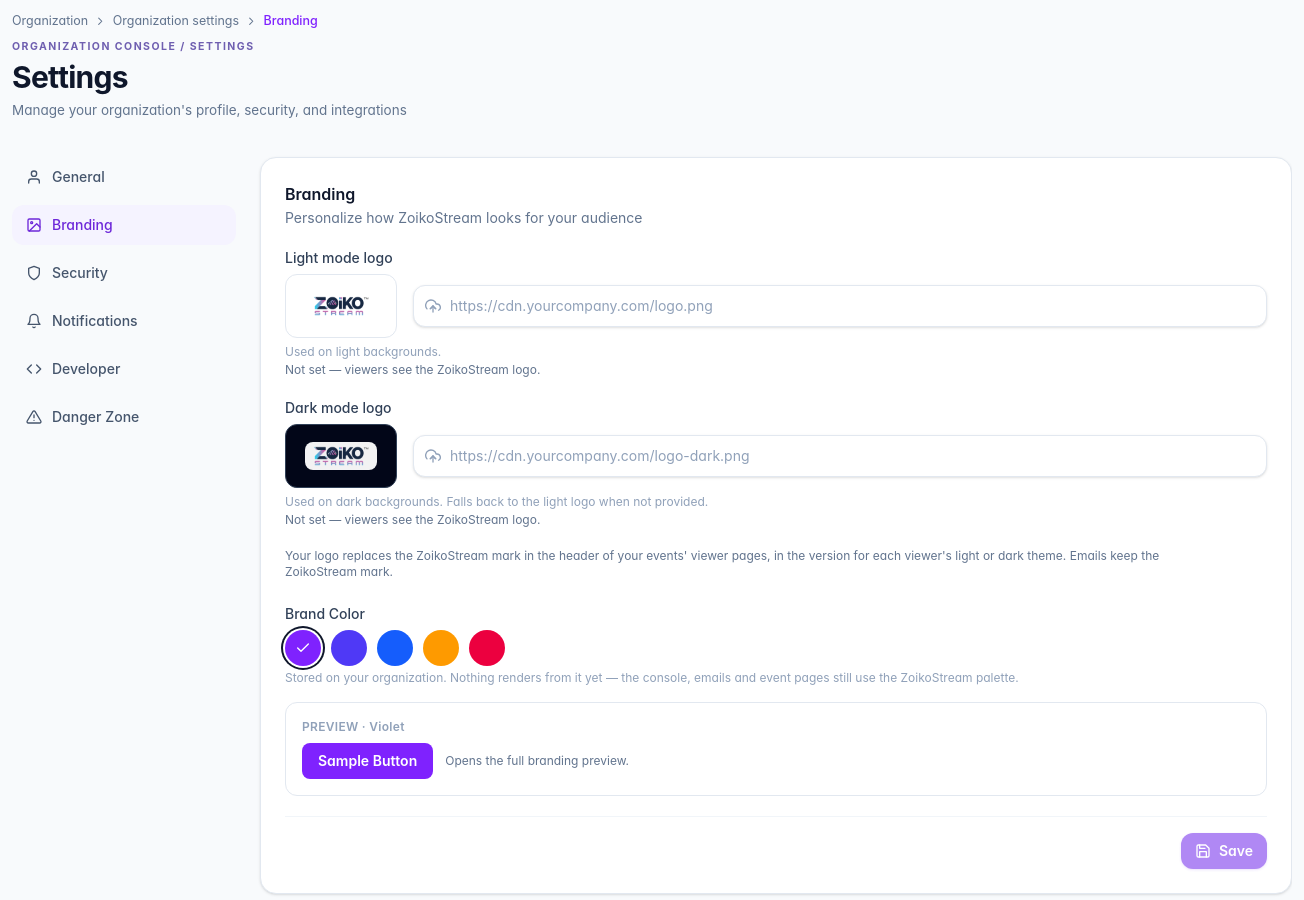
Test: each section saves only itself › a section edited and then restored is no longer dirty
The width and height of the screenshot is (1304, 900).
Step 1. Click the button named "indigo" → (349, 648), box [331, 630, 367, 666]
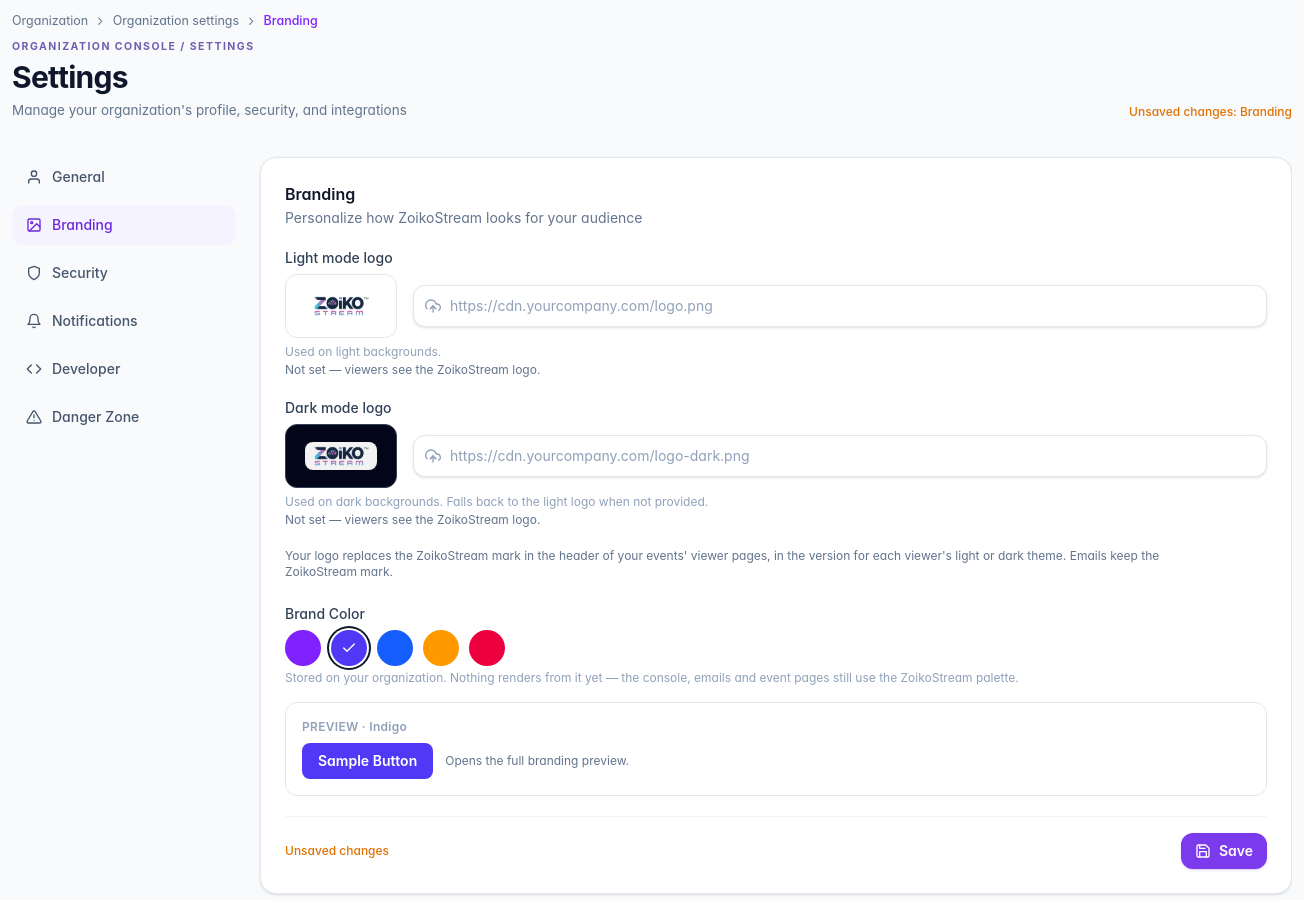
Expected: the button with aria-label "Save branding" is enabled, [1181, 833, 1267, 869]
Step 2. Click the button named "violet" → (303, 648), box [285, 630, 321, 666]
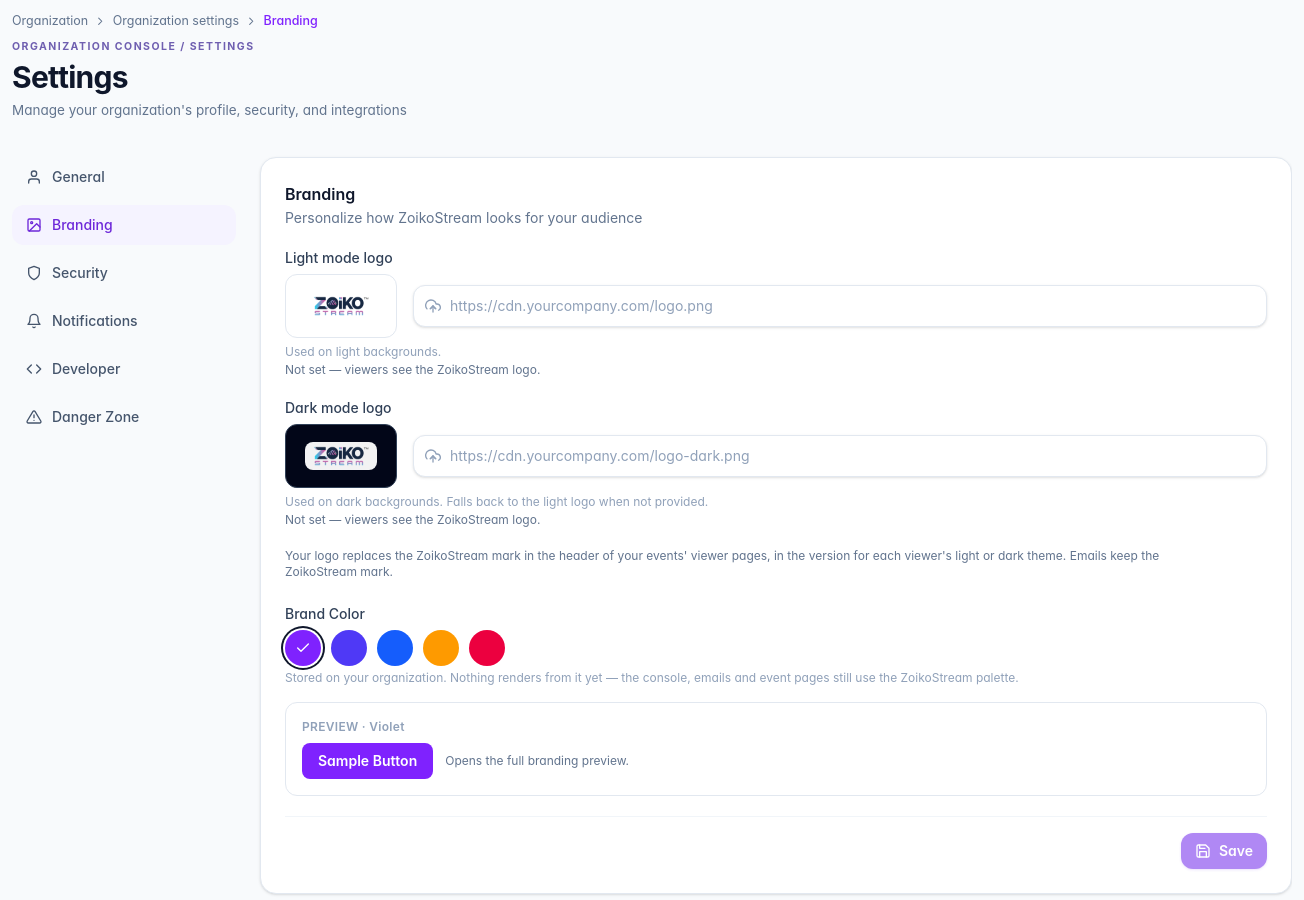
Expected: the button with aria-label "Save branding" is disabled, [1181, 833, 1267, 869]
